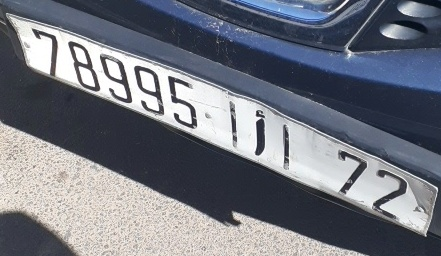2: (371, 167, 408, 225)
5: (163, 72, 202, 138)
7: (330, 145, 368, 203), (27, 23, 63, 81)
8: (66, 39, 101, 93)
9: (131, 60, 167, 122), (97, 52, 136, 108)
a: (251, 104, 273, 170)
